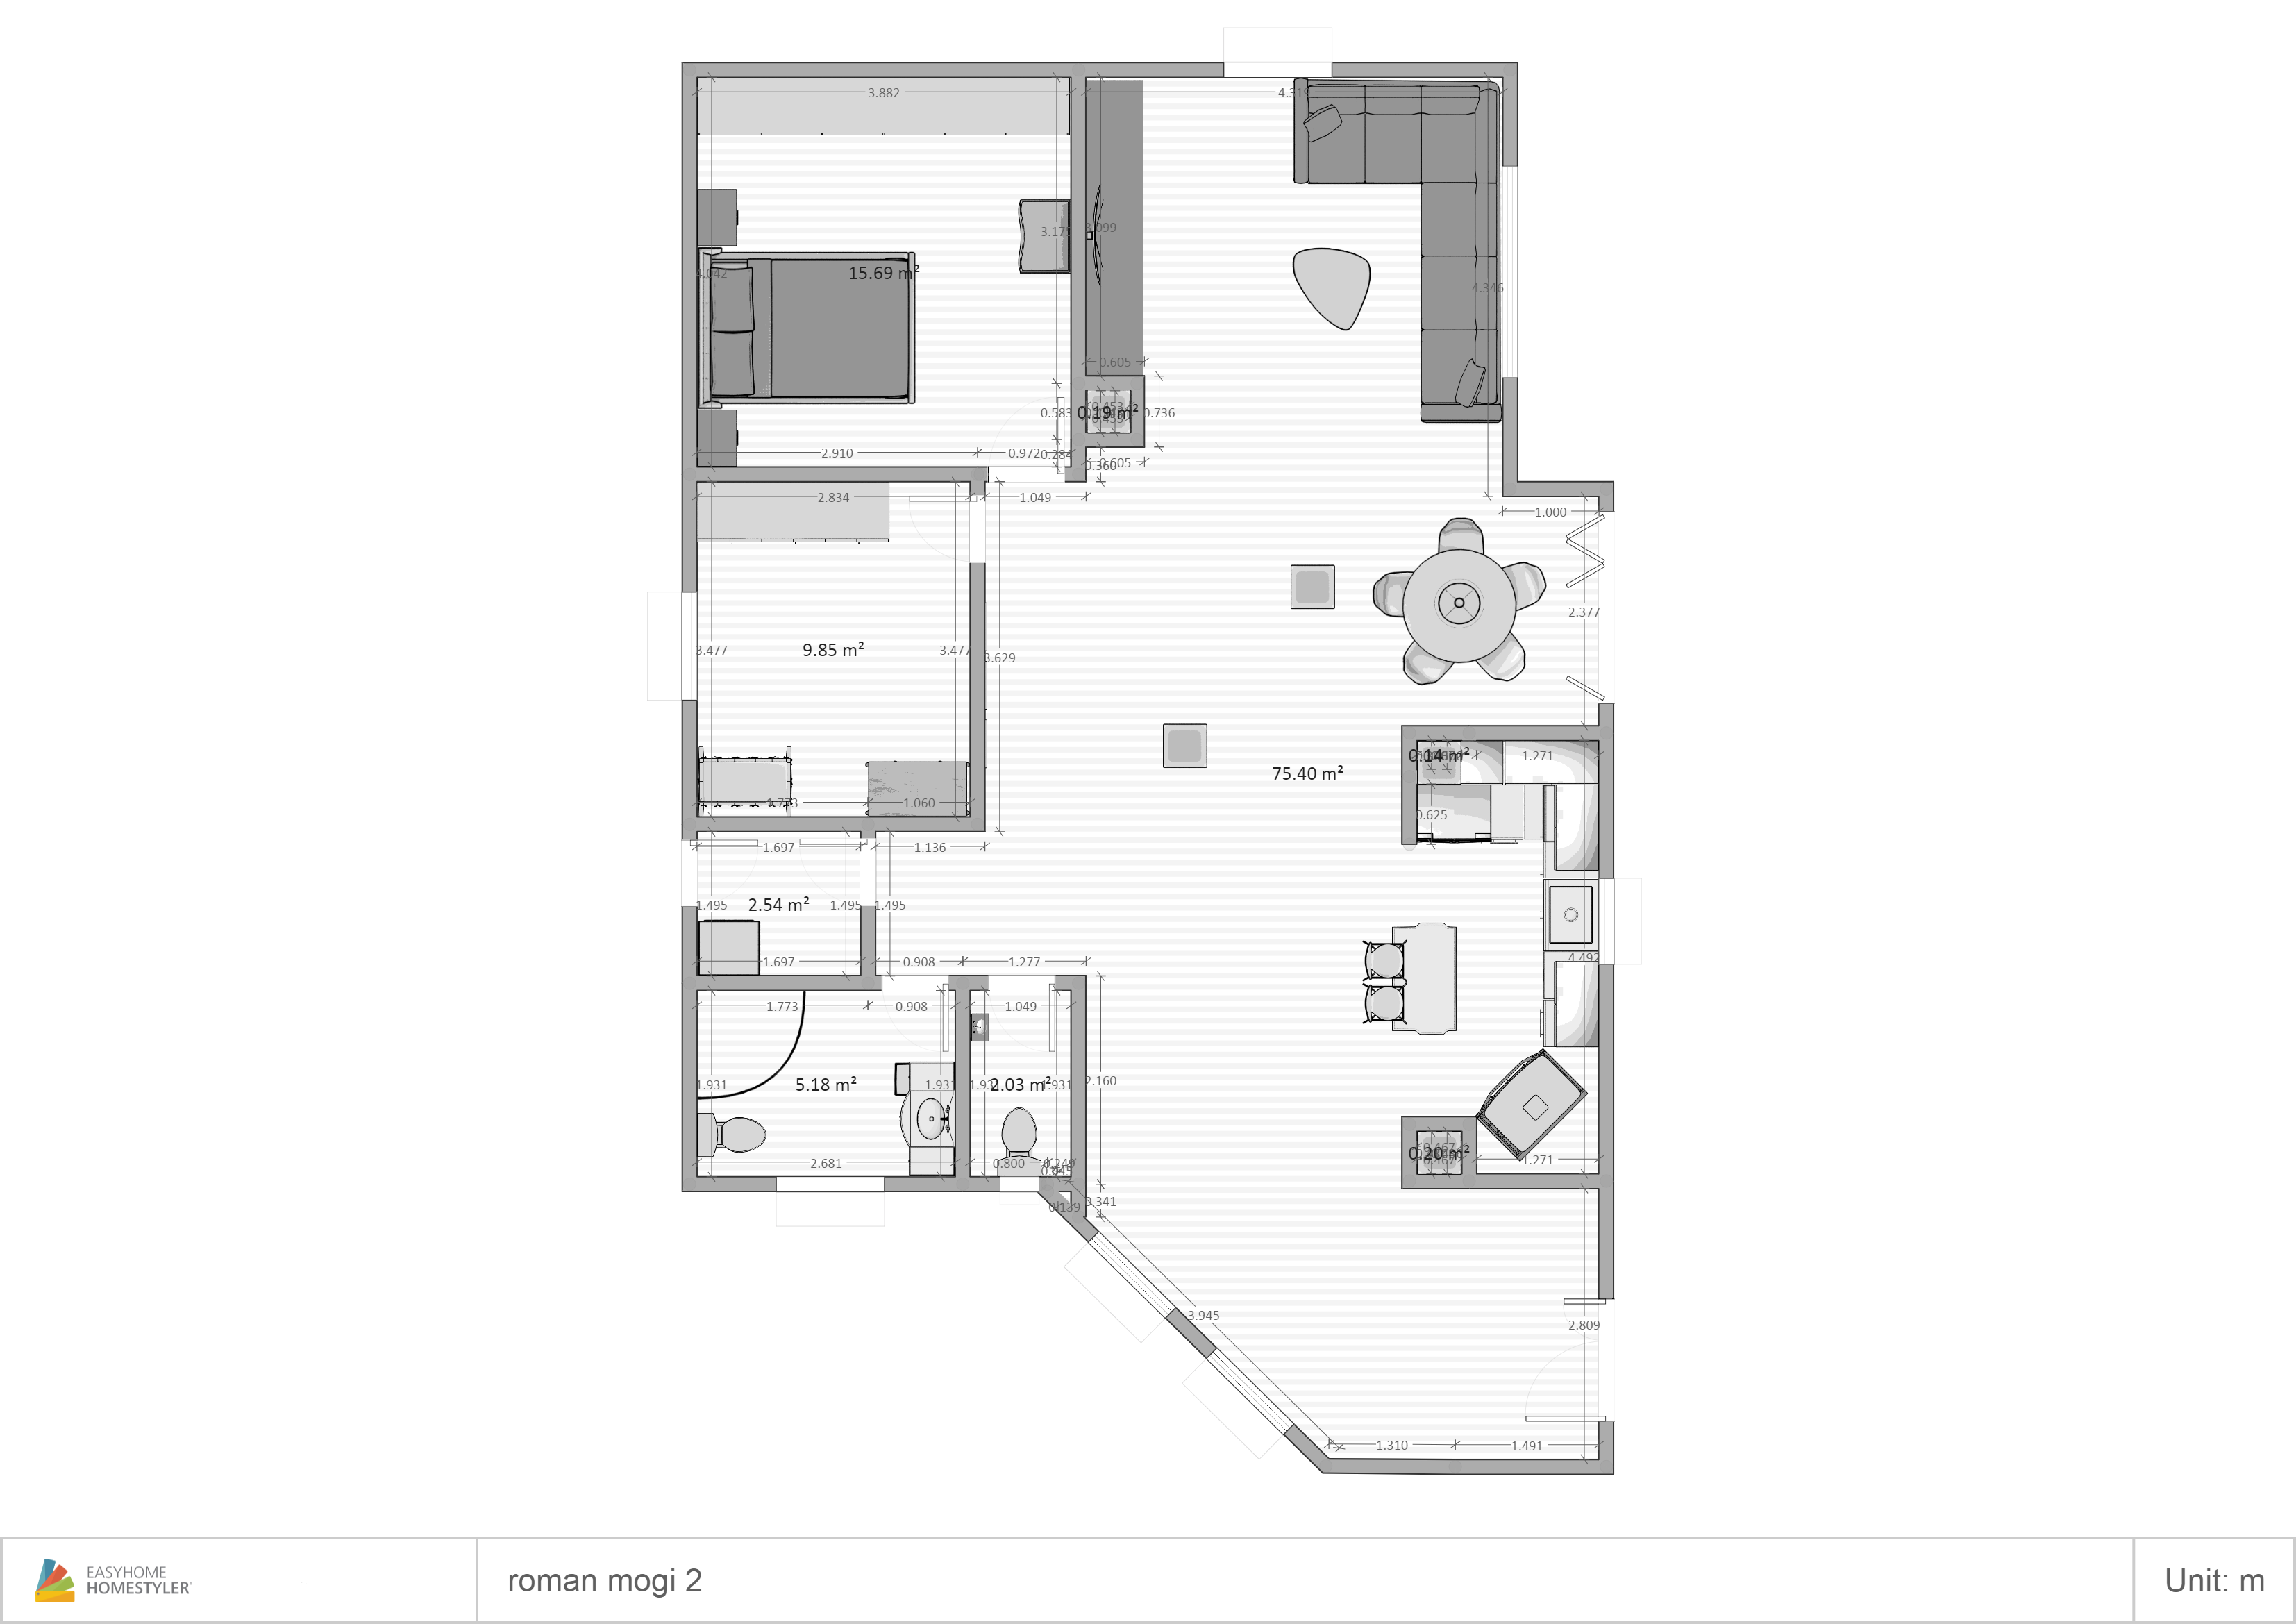wall: (682, 62, 1223, 76), (1070, 62, 1086, 483), (683, 63, 697, 485), (683, 466, 987, 482), (683, 817, 984, 831), (683, 907, 697, 1190), (954, 975, 971, 1192), (1070, 975, 1086, 1190), (1332, 62, 1518, 77), (885, 1176, 1000, 1193), (1502, 378, 1518, 497), (1502, 482, 1613, 497), (1502, 63, 1518, 165), (683, 1176, 776, 1190)
window: (775, 1178, 884, 1192), (683, 592, 697, 701), (1000, 1176, 1038, 1193)
